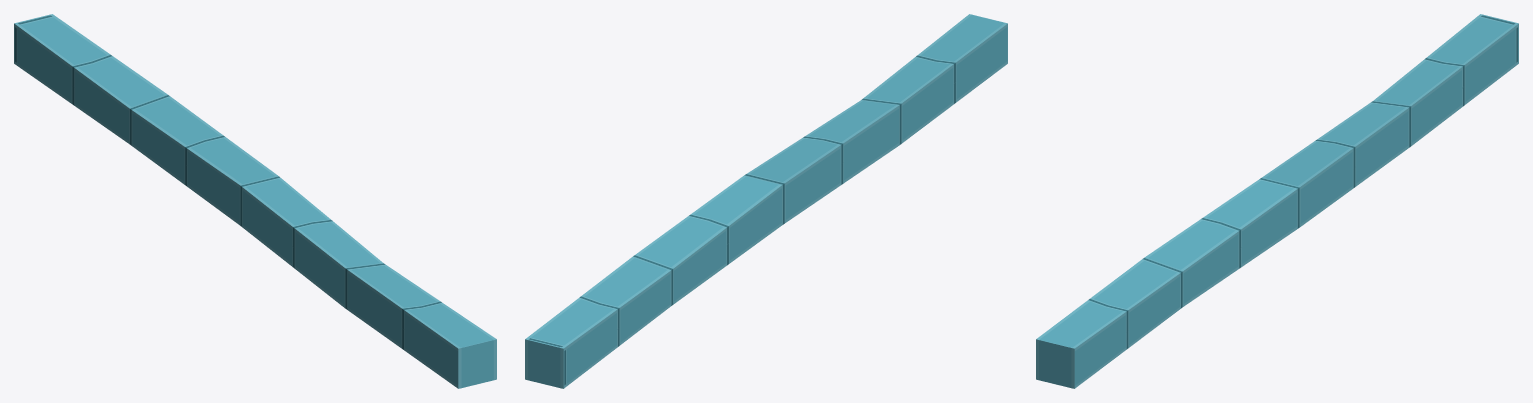
The model's file is curb01.fbx.
3 views of the same model, side by side, from view 1: azimuth 30°, elevation 25°; view 2: azimuth 150°, elevation 25°; view 3: azimuth 330°, elevation 25° (orthographic).
Visible parts, largest first — view 1: curb01; view 2: curb01; view 3: curb01.
Boxes of the visible parts, x1,y1,x2,y2 form: curb01: [14, 14, 496, 388]; curb01: [525, 14, 1007, 388]; curb01: [1036, 14, 1518, 388].
Size of the model in its own units: 23.34 by 20 by 400.
